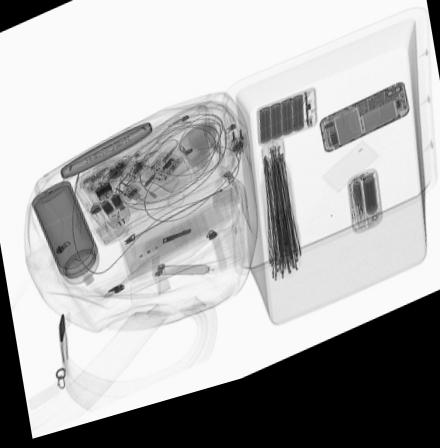Powerbank: (257, 104, 316, 162)
